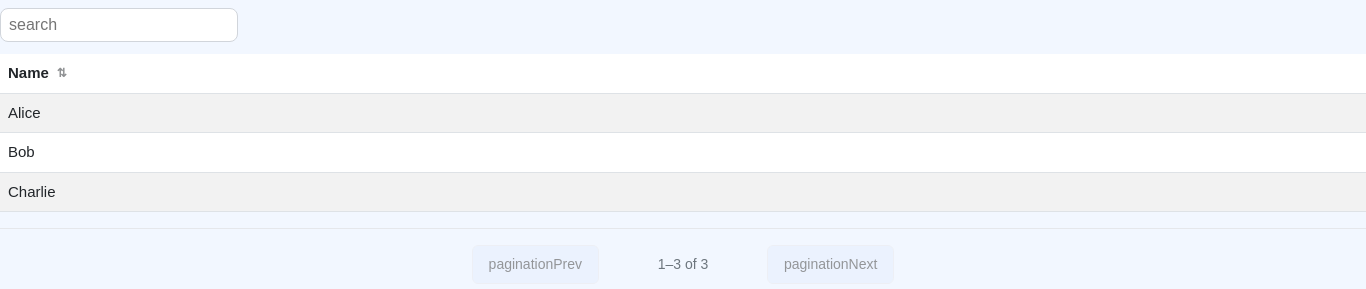
Test: DataTable › resets to page 1 when search changes in uncontrolled client pagination
This screenshot has width=1366, height=289.
Type in search - this exercises updateGlobalSearch with client pagination
Type "Bob" into the search field at (119, 25), box [9, 13, 229, 37]
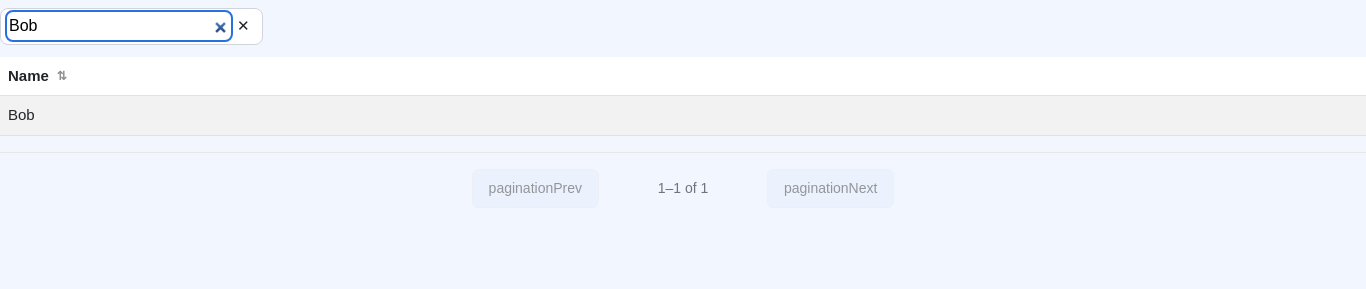
Result: the text "Bob" is shown at [0, 96, 1365, 135]
Result: the text "Alice" is gone
